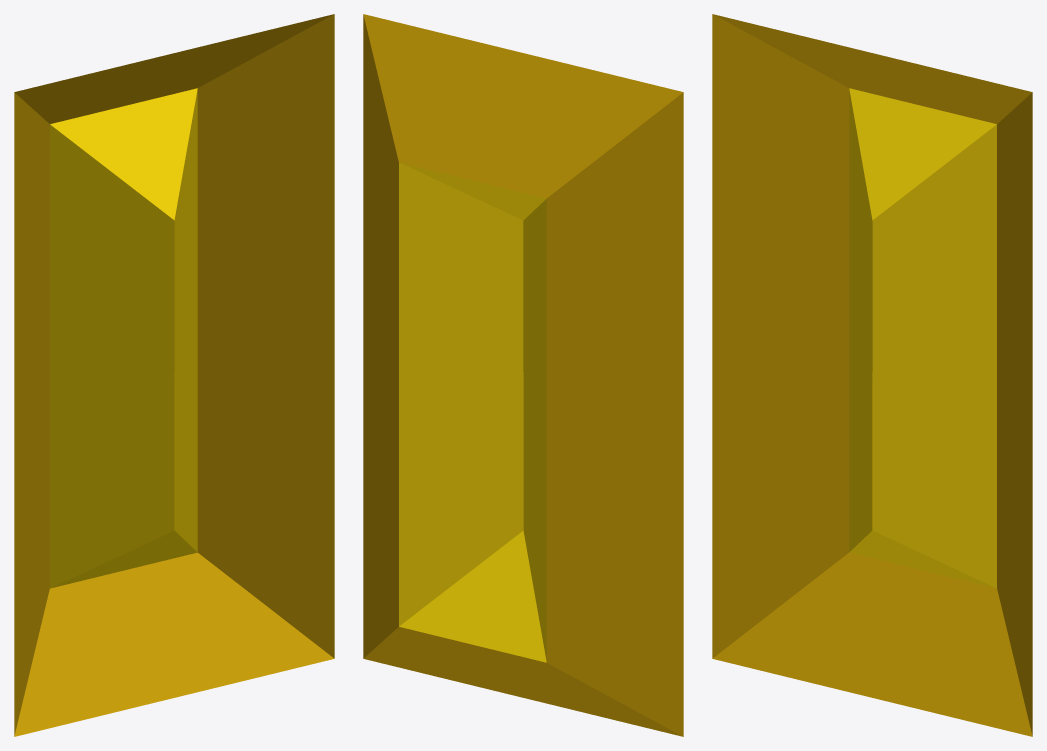
The model's file is mdl_zesty_maple_tri_slot.gltf.
3 renders of one model, left to right at view 1: azimuth 30°, elevation 25°; view 2: azimuth 150°, elevation 25°; view 3: azimuth 330°, elevation 25°, orthographic.
Parts seen in each view (by area): view 1: mdl_zesty_maple_tri_slot; view 2: mdl_zesty_maple_tri_slot; view 3: mdl_zesty_maple_tri_slot.
Part boxes in pixels (box(x1,y1,x2,y2)): mdl_zesty_maple_tri_slot: box(14, 14, 334, 736); mdl_zesty_maple_tri_slot: box(363, 14, 683, 736); mdl_zesty_maple_tri_slot: box(712, 14, 1032, 736).
Bounding box in the file's own units: 0.0297 × 0.0572 × 0.00814.
